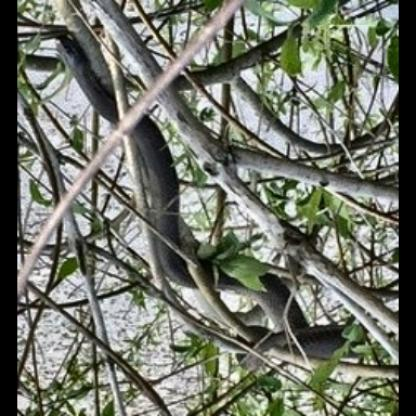Snake: (147, 196, 360, 361), (50, 30, 180, 188)
